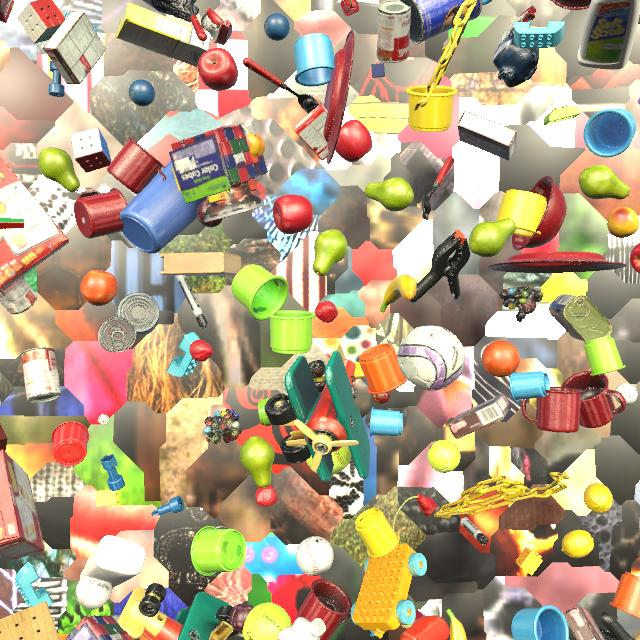ycb_002_master_chef_can: (400, 0, 483, 44)
ycb_003_cracker_box: (0, 156, 69, 289), (0, 449, 45, 560), (0, 0, 14, 23)
ycb_004_sugar_box: (117, 2, 212, 67)
ycb_005_tomato_soup_can: (20, 347, 61, 403), (376, 0, 411, 63), (0, 276, 37, 315), (98, 317, 136, 352)
ycb_007_tuna_fish_can: (116, 293, 160, 336)
ycb_008_pudding_box: (43, 11, 106, 84), (457, 111, 517, 161), (448, 393, 512, 439), (563, 606, 605, 640)
ycb_009_gelatin_box: (294, 103, 329, 160)
ycb_010_potted_meat_can: (549, 294, 612, 342)
ycb_011_banana: (380, 274, 417, 312), (446, 608, 467, 640)
ycb_012_strawberry: (189, 340, 213, 362), (255, 485, 278, 507), (315, 301, 338, 323)
ycb_013_apple: (198, 48, 238, 91), (273, 195, 313, 234), (335, 120, 372, 162), (630, 243, 640, 273)
ycb_014_lemon: (561, 530, 594, 558), (584, 483, 613, 513)
ycb_015_peach: (607, 207, 639, 238), (247, 133, 265, 157)
ycb_016_pear: (239, 436, 275, 489), (38, 148, 80, 192), (469, 218, 516, 257), (579, 165, 630, 199), (365, 177, 414, 212), (313, 229, 347, 276)
ycb_017_orange: (482, 340, 520, 377), (80, 270, 118, 306)
ycb_018_plum: (197, 199, 223, 227), (230, 604, 254, 633)
